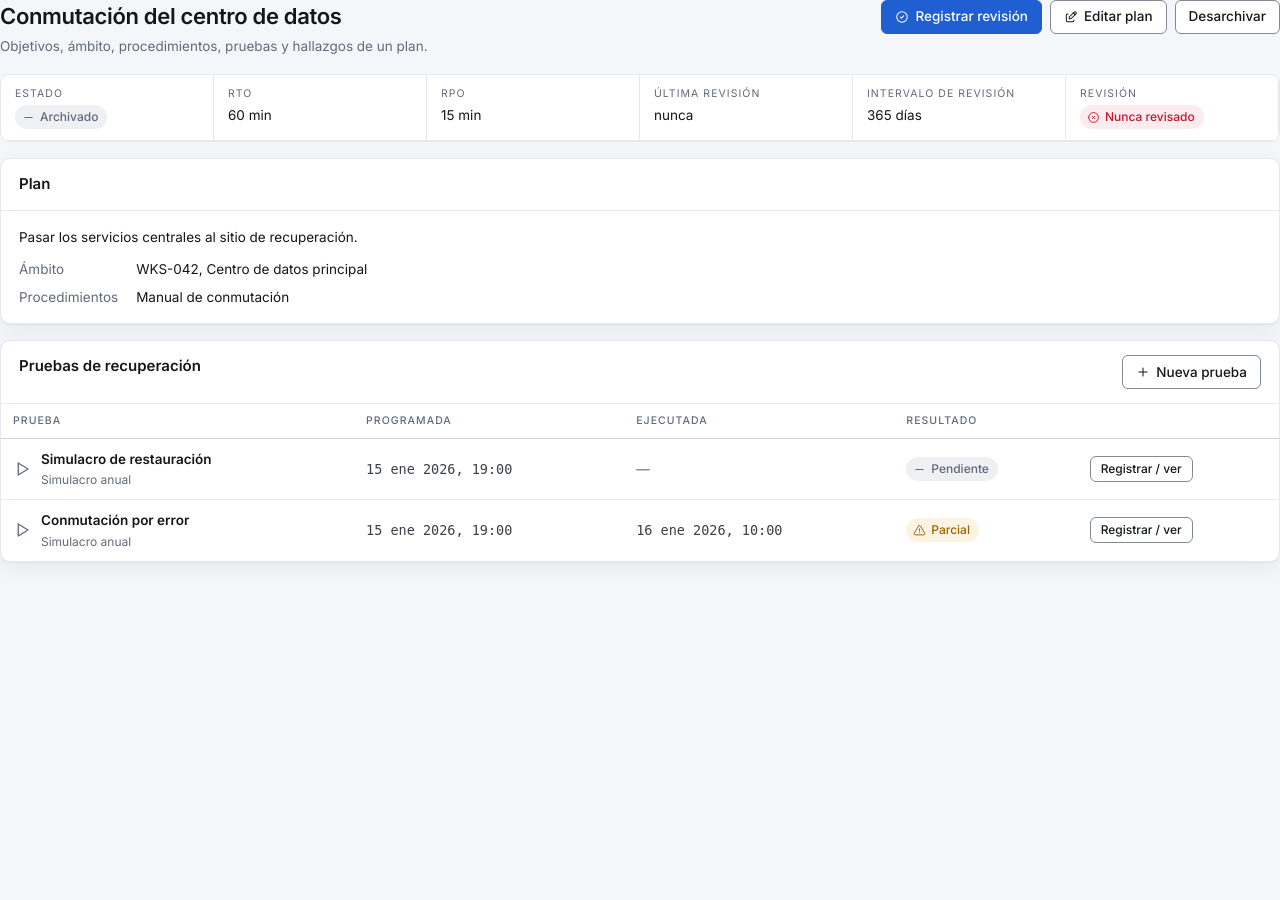
Test case: a plan's detail, in Spanish › says Desarchivar for an archived plan, and words a refused review
Expected: the button "Desarchivar" is shown, [1174, 0, 1279, 34]
Click the button "Registrar revisión" at (962, 17), box [882, 0, 1042, 34]
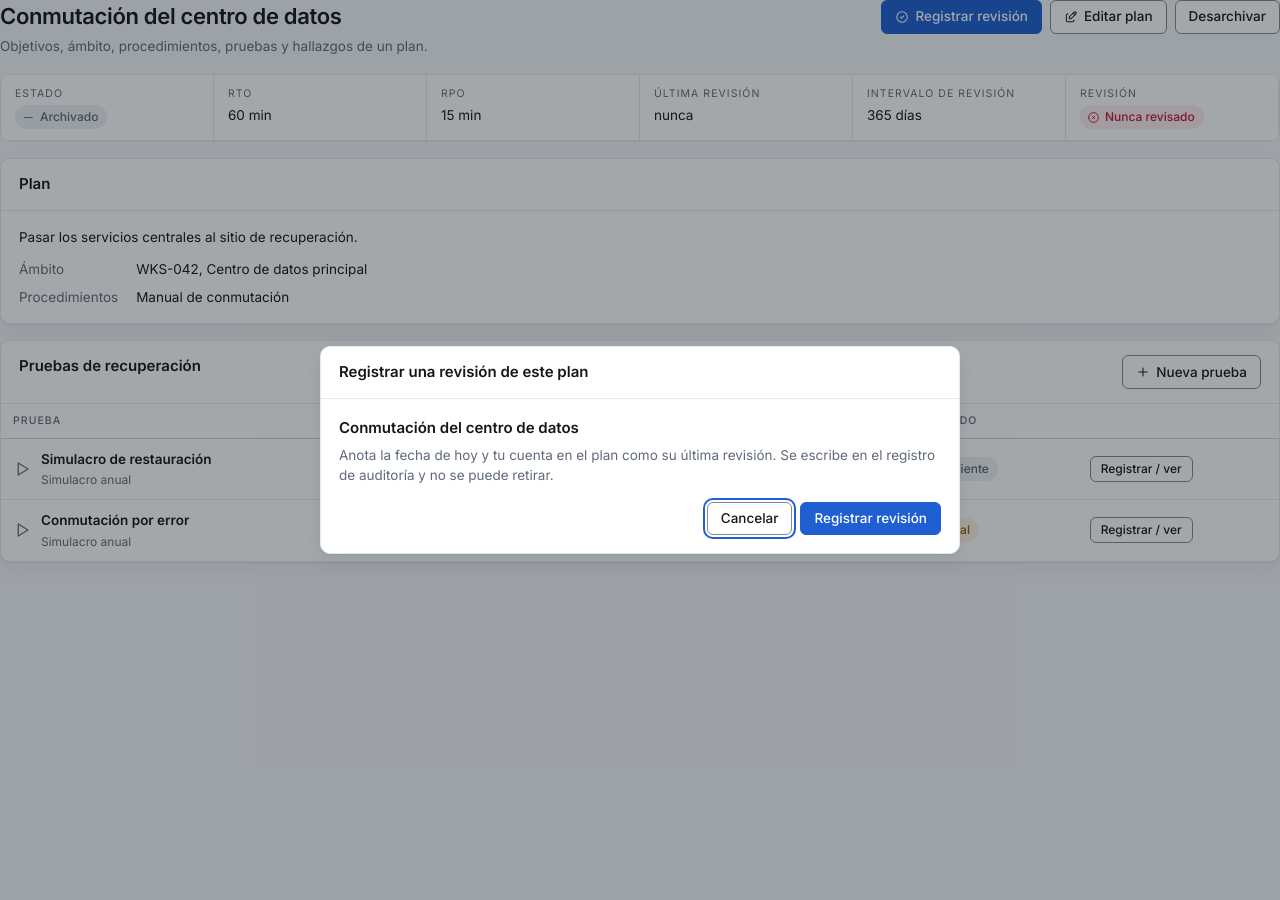
Click the button "Registrar revisión" at (871, 518), box [800, 502, 941, 535]
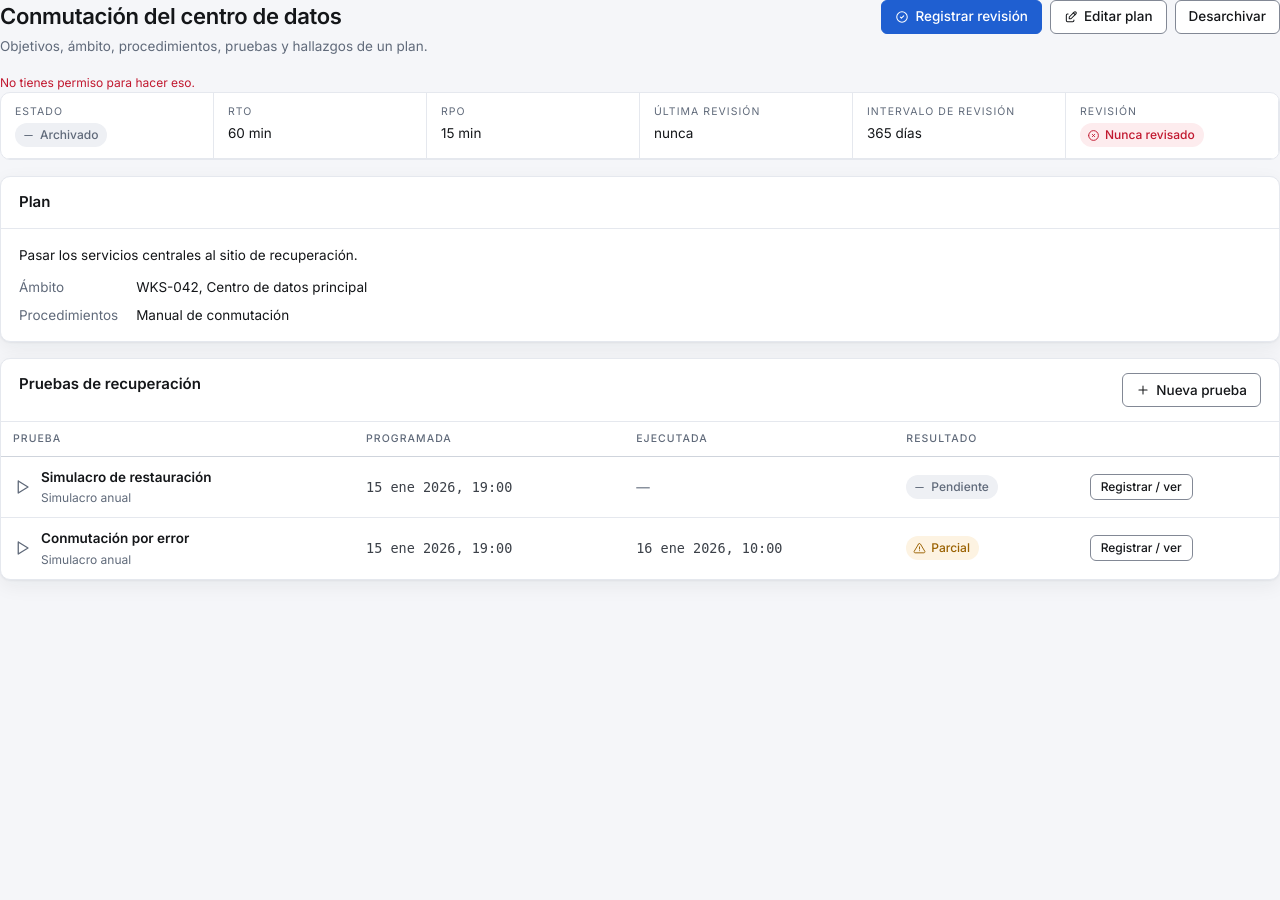
Expected: the message "No tienes permiso para hacer eso." is shown, [0, 75, 195, 90]
